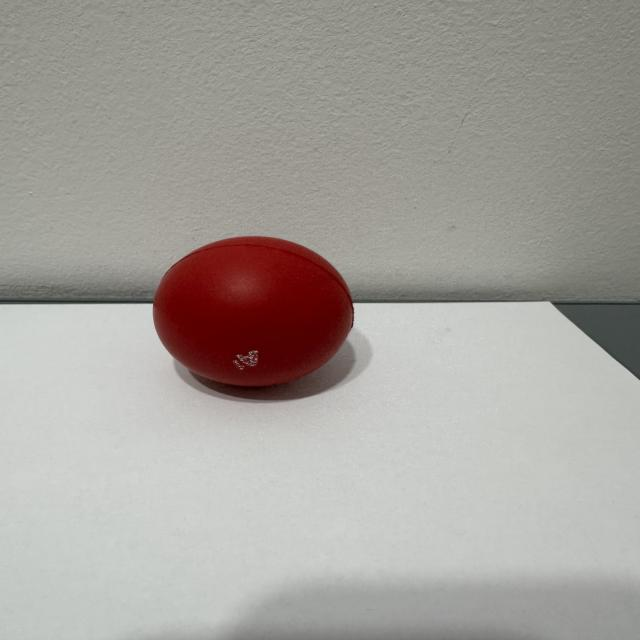red_ball: (130, 205, 367, 407)
